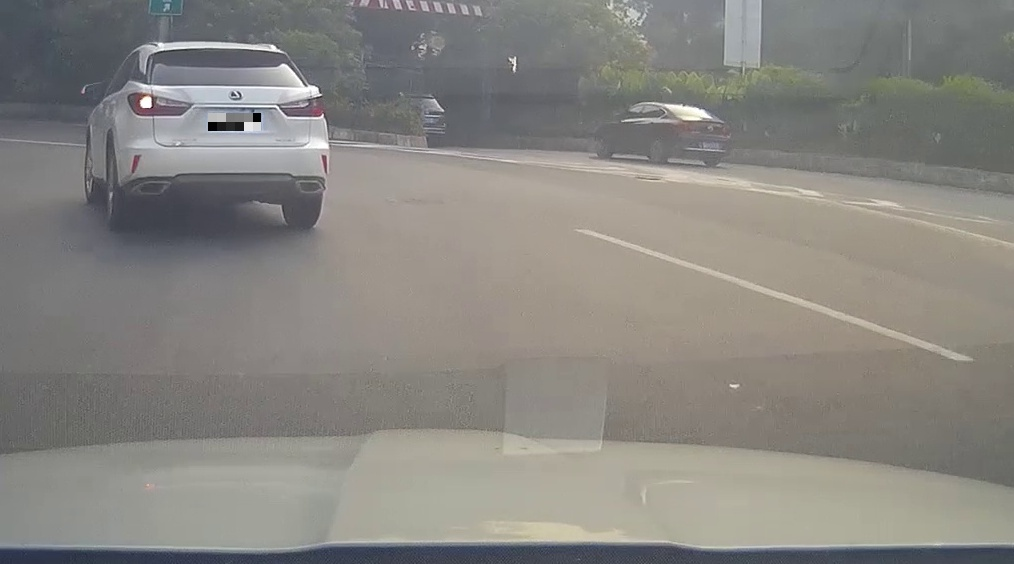L_light: (127, 91, 195, 117), (671, 121, 692, 131)
R_light: (278, 95, 324, 118), (720, 125, 729, 135)
T_light: (206, 48, 237, 54), (678, 105, 689, 109)
day-left: (124, 42, 329, 228)
day-no: (658, 103, 729, 166)
plate_1: (208, 113, 261, 131)
